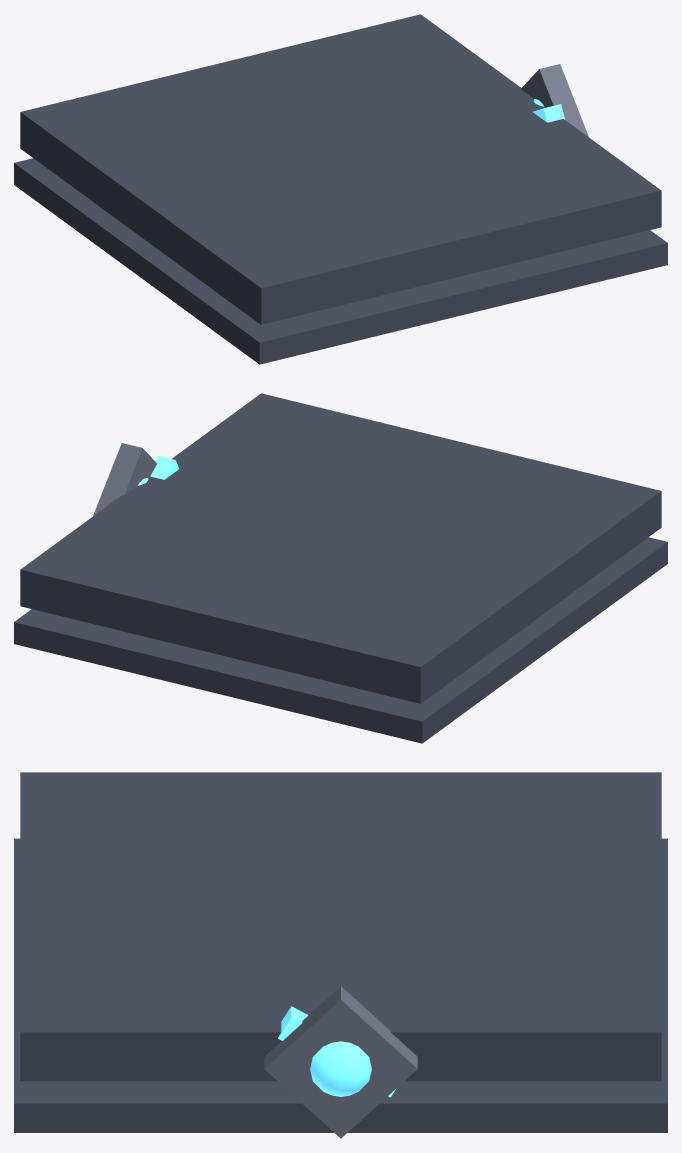
3 views of the same model, one above another, from view 1: azimuth 30°, elevation 25°; view 2: azimuth 150°, elevation 25°; view 3: azimuth 270°, elevation 25° (orthographic). The views are drawn at different scales.
Parts seen in each view (by area): view 1: tempest-ring; view 2: tempest-ring; view 3: tempest-ring.
Boxes of the visible parts, bbox=[...] form: tempest-ring: bbox=[14, 14, 667, 364]; tempest-ring: bbox=[14, 393, 667, 743]; tempest-ring: bbox=[14, 772, 667, 1138].
Size of the model in its own units: 0.3198 by 0.0754 by 0.3122.
